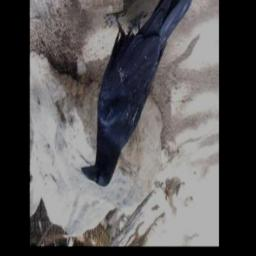Crow: (79, 0, 192, 190)
